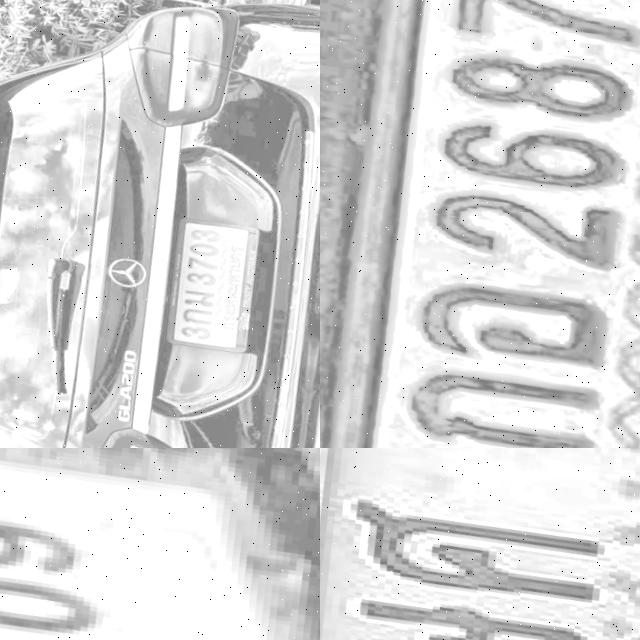license-plate: (320, 0, 640, 448), (0, 448, 320, 640), (320, 448, 640, 640), (149, 216, 267, 362)
